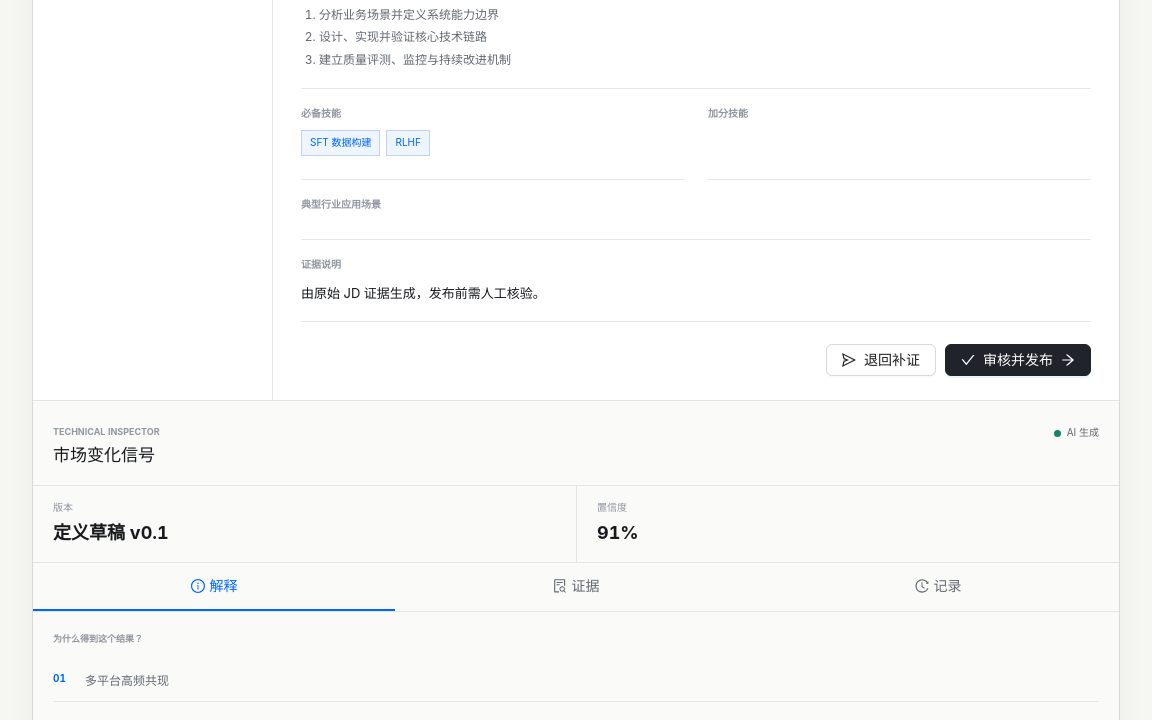
Test: reviews new-role signals and displays a role-change version diff
(page scrolled)
Click the button "审核并发布" at [1018, 360], box [945,344,1091,376]
(page scrolled)
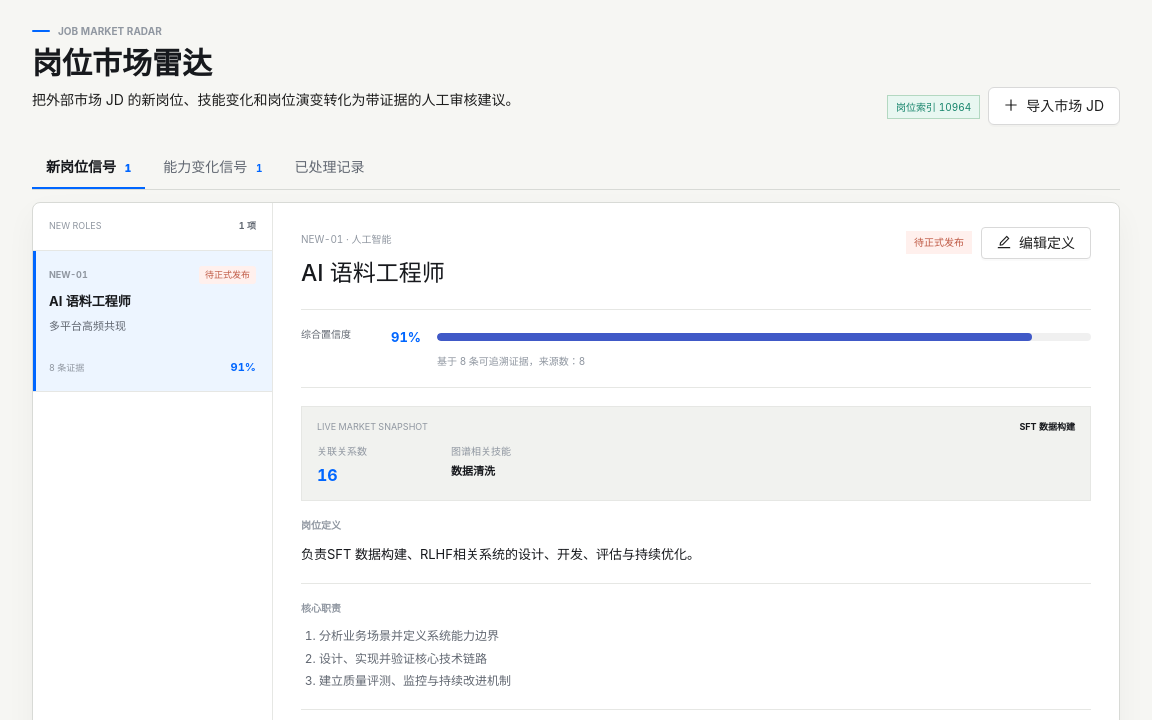
Click the button "能力变化信号 1" at [213, 168], box [149,147,276,189]
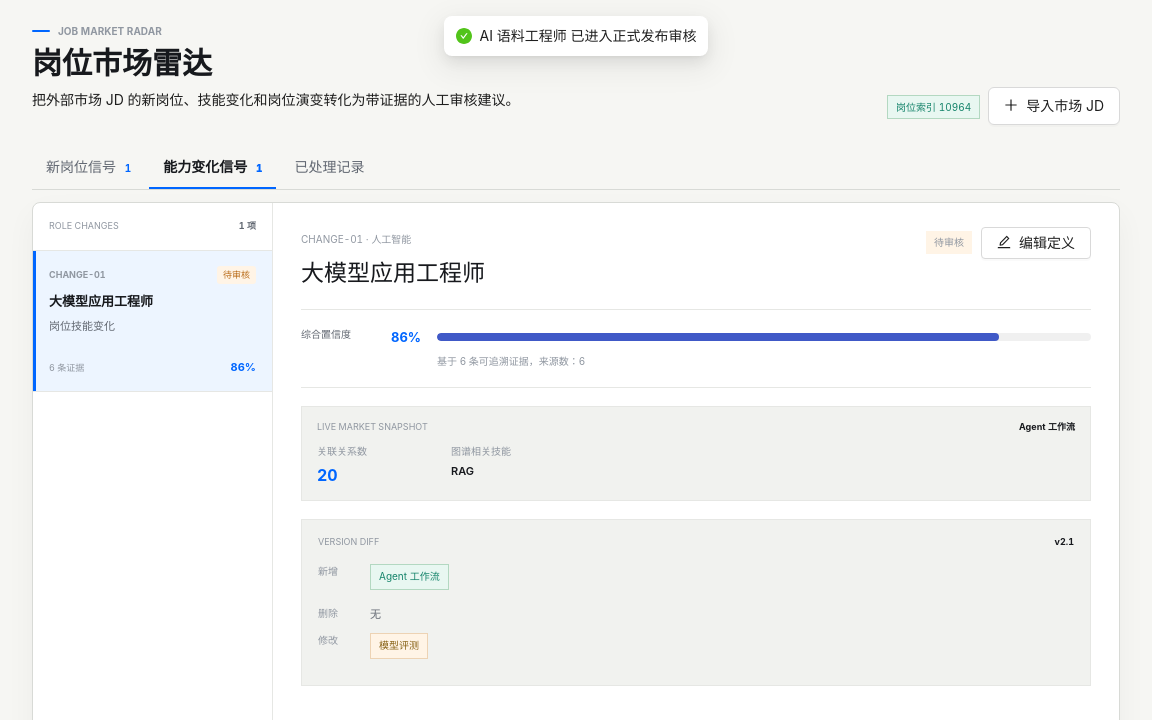
Expected: the text "VERSION DIFF" is shown, [318,535,379,549]
